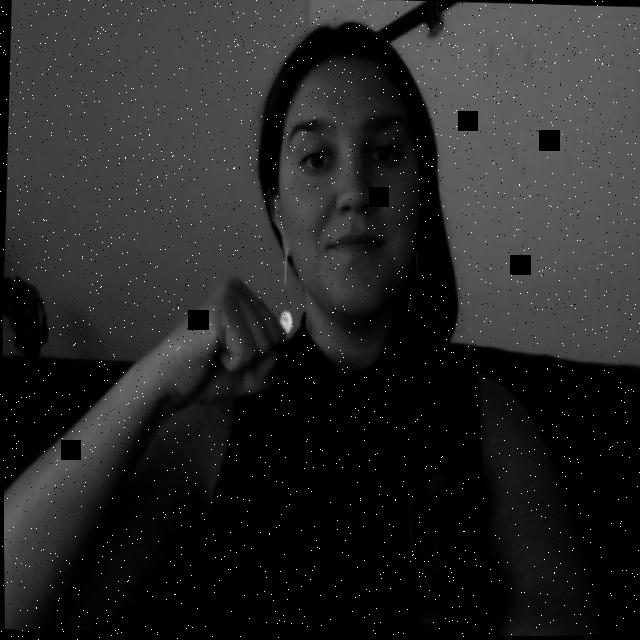Rock: (150, 266, 305, 420)
